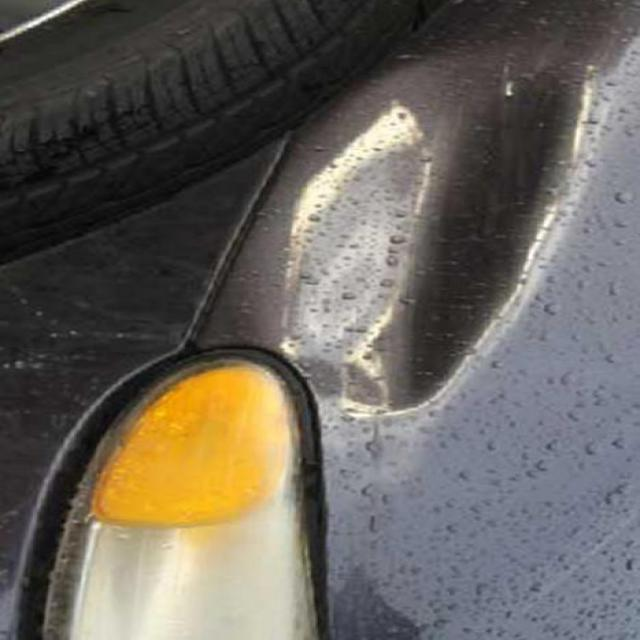dent: (227, 32, 620, 456)
